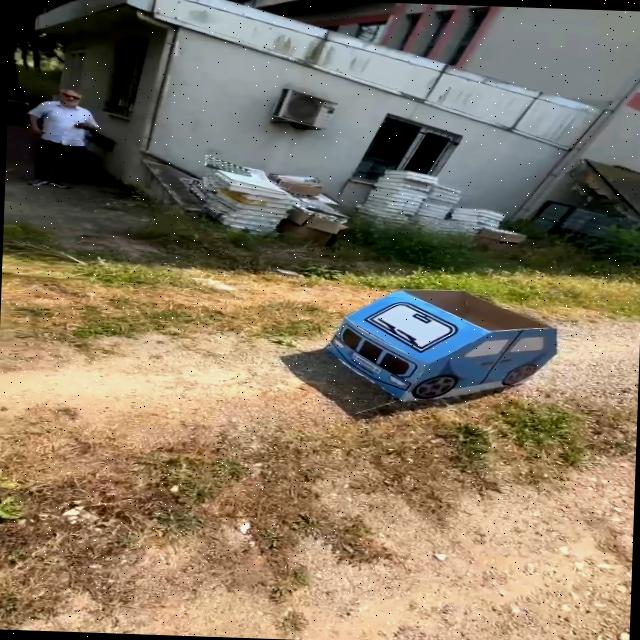blue_car: (288, 270, 586, 419)
